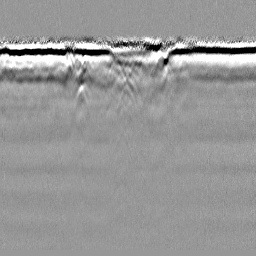cavity: (116, 81, 136, 113)
